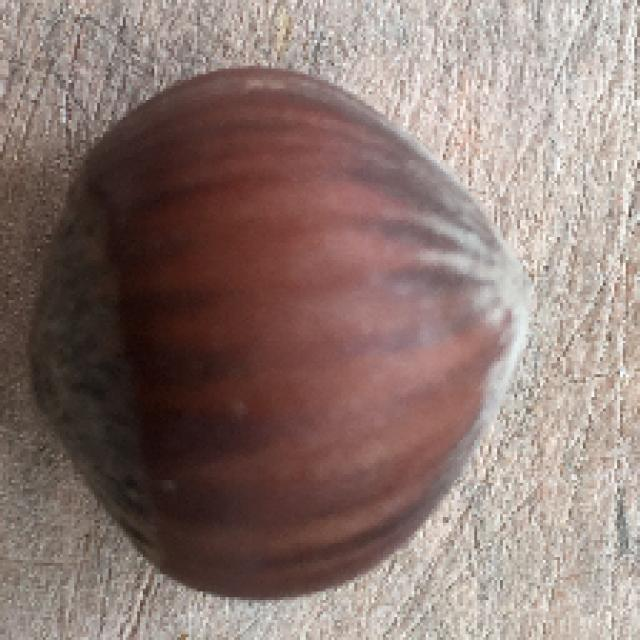damagedHazelnut: (20, 61, 541, 591)
